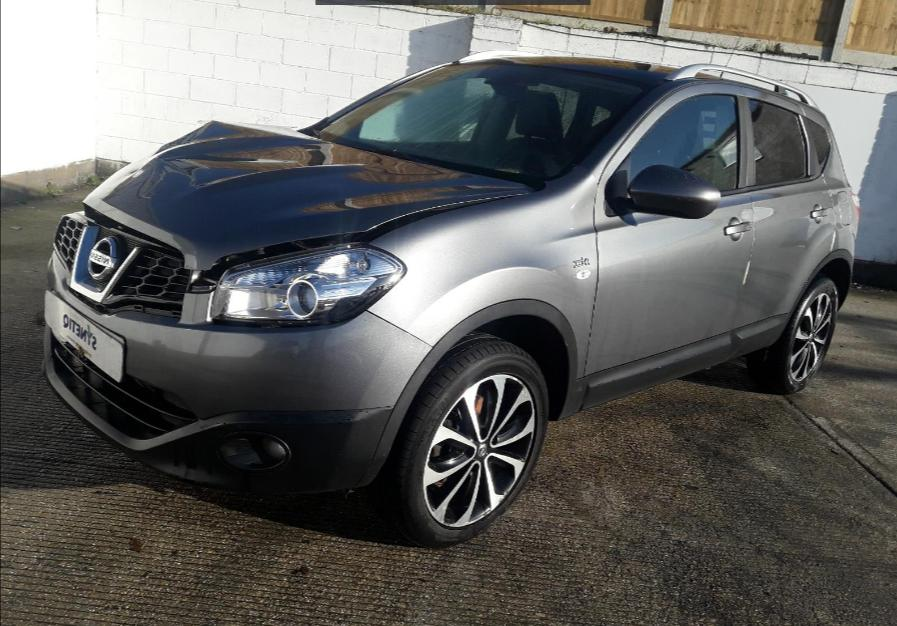Broken part: (80, 117, 535, 298), (53, 212, 188, 318)
Dent: (109, 118, 333, 179)
